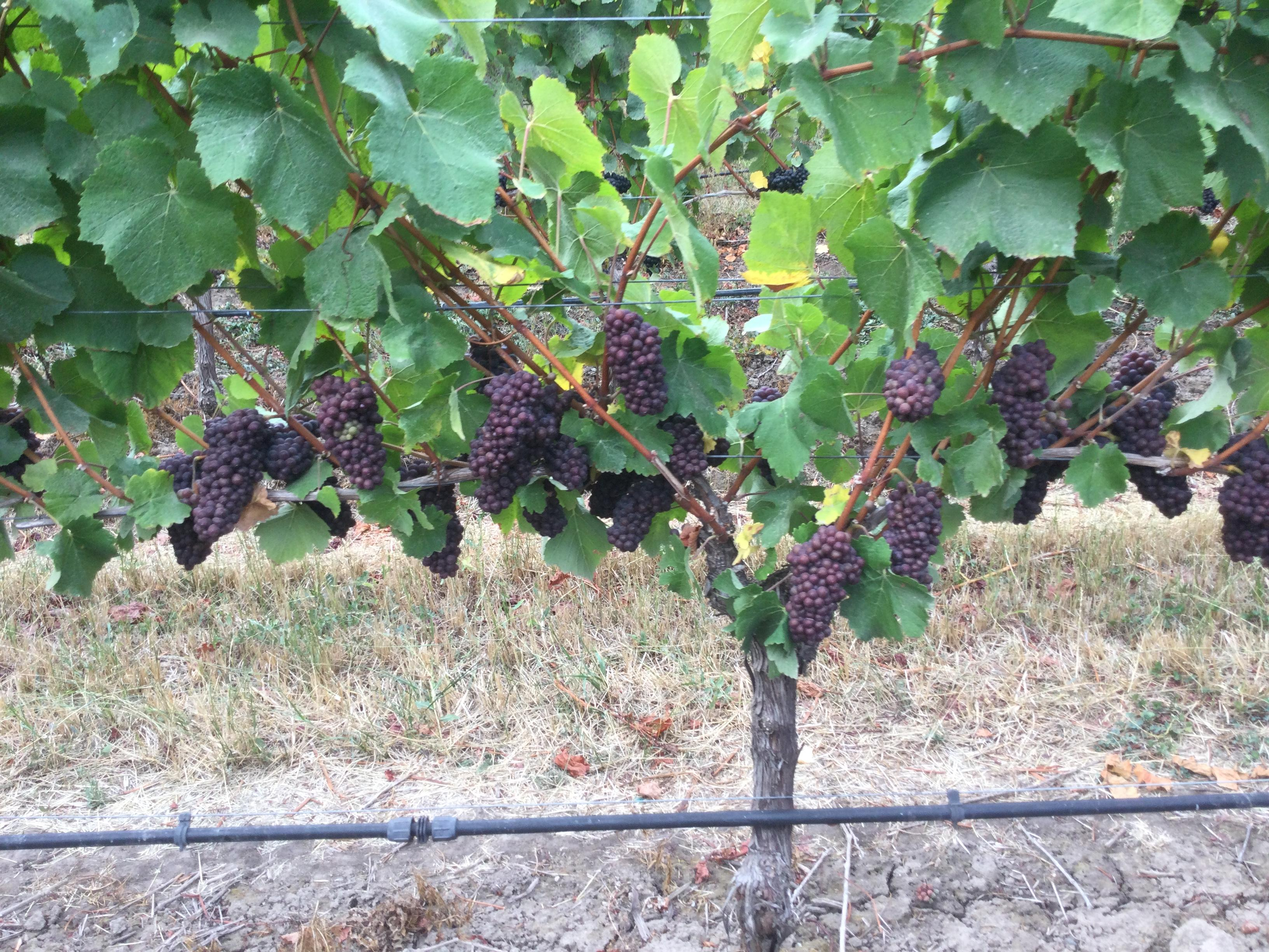leaf: (344, 54, 506, 224), (191, 65, 349, 232), (80, 138, 237, 303), (916, 122, 1086, 259), (1077, 79, 1204, 232), (938, 38, 1108, 133), (792, 61, 930, 177), (1119, 212, 1232, 327), (1169, 30, 1268, 161), (844, 215, 941, 337), (644, 154, 718, 311), (501, 76, 605, 175), (629, 34, 706, 167), (841, 536, 932, 640), (305, 227, 390, 325), (0, 105, 63, 236), (32, 0, 139, 77), (662, 331, 733, 436), (381, 286, 467, 371), (340, 0, 447, 68), (89, 338, 194, 407), (743, 191, 818, 286), (0, 245, 73, 341), (36, 516, 116, 597), (172, 0, 260, 58), (1053, 0, 1182, 39), (543, 506, 611, 578), (640, 513, 697, 598), (750, 484, 823, 547), (253, 504, 329, 562), (709, 0, 770, 70), (1064, 443, 1128, 506), (945, 437, 1008, 498), (126, 469, 190, 526), (393, 505, 457, 559), (42, 467, 101, 525), (969, 468, 1027, 522), (940, 0, 981, 42), (1026, 0, 1073, 32), (211, 0, 258, 27), (563, 91, 580, 122), (177, 4, 194, 18), (590, 136, 598, 147), (582, 125, 589, 135), (995, 4, 1000, 16), (250, 34, 254, 48), (346, 79, 355, 84), (252, 391, 255, 402), (1028, 20, 1030, 26), (723, 119, 725, 124), (200, 87, 201, 94), (719, 126, 720, 130), (213, 175, 215, 177), (1109, 3, 1113, 4), (731, 358, 733, 360), (129, 404, 133, 405), (711, 123, 712, 125), (1033, 27, 1033, 28), (0, 200, 2, 200), (234, 54, 245, 54), (986, 4, 991, 4), (535, 86, 535, 88), (575, 113, 575, 114), (663, 457, 664, 457)
